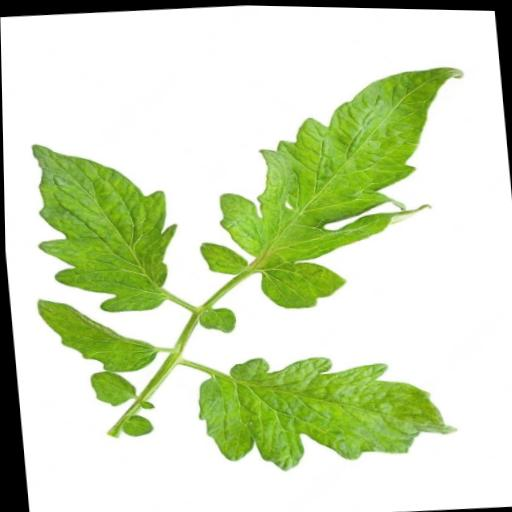Healthy: (182, 58, 483, 318), (190, 341, 460, 479), (26, 134, 185, 319), (34, 290, 159, 379)
